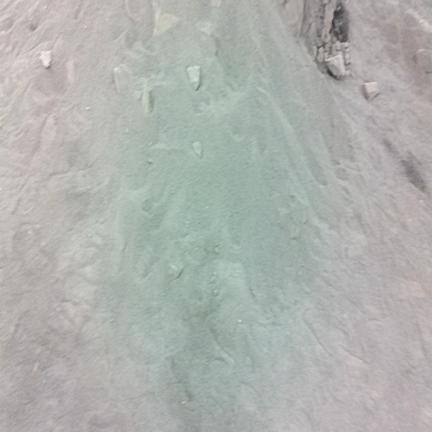Rock: (326, 54, 346, 78), (113, 64, 129, 94), (415, 49, 431, 73), (187, 66, 200, 90), (141, 86, 152, 113), (363, 82, 378, 100), (168, 264, 183, 280), (40, 51, 51, 68), (192, 142, 202, 158), (317, 47, 324, 62)
